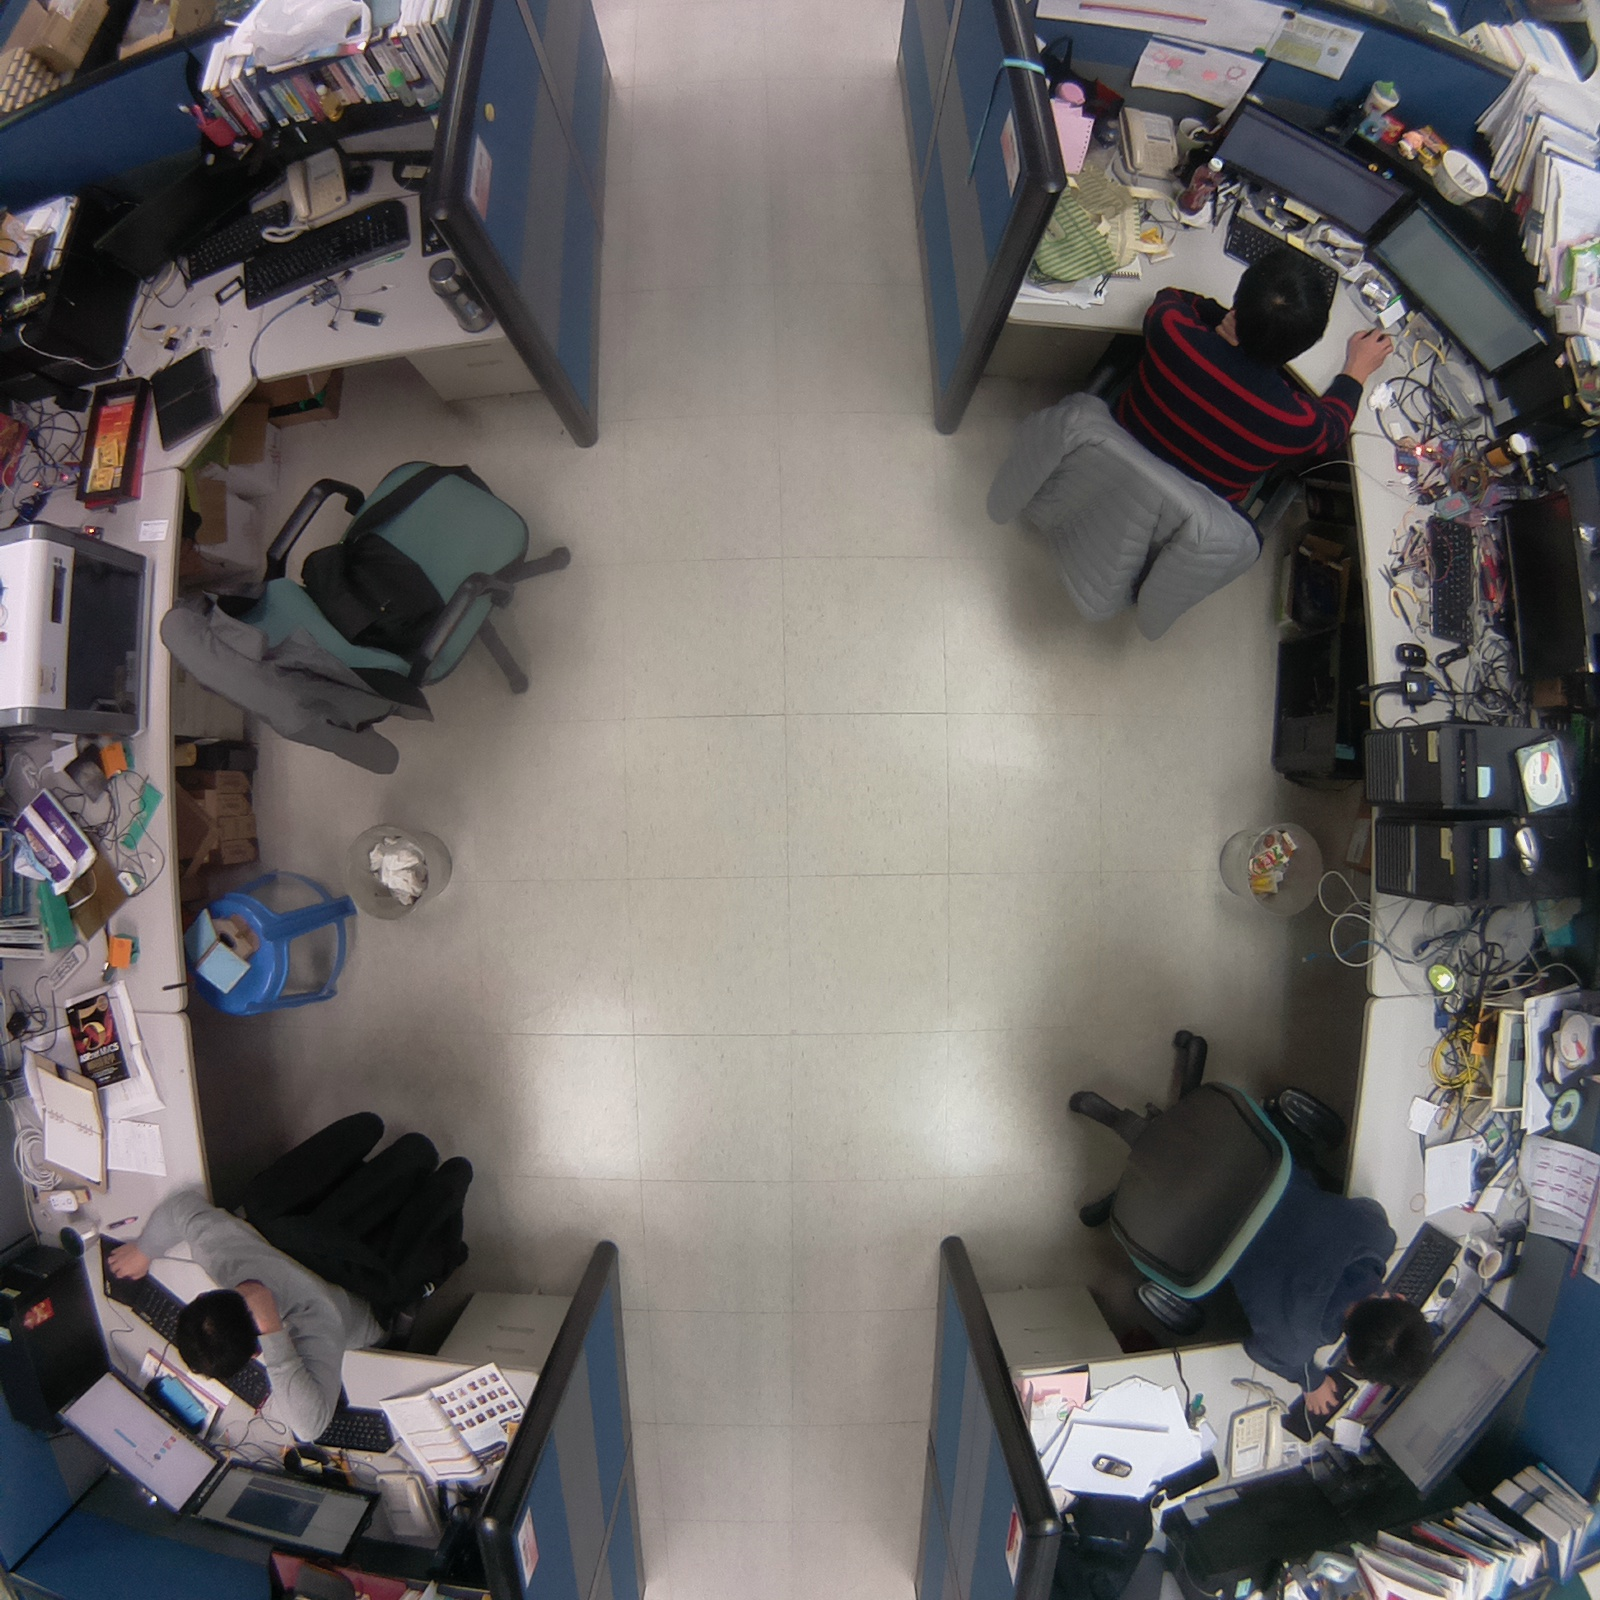chair: (137, 432, 604, 788)
head: (1225, 248, 1338, 365), (172, 1278, 266, 1395), (1346, 1278, 1442, 1395)
sitting: (960, 252, 1406, 655), (1055, 1014, 1445, 1429), (91, 1075, 499, 1450)
